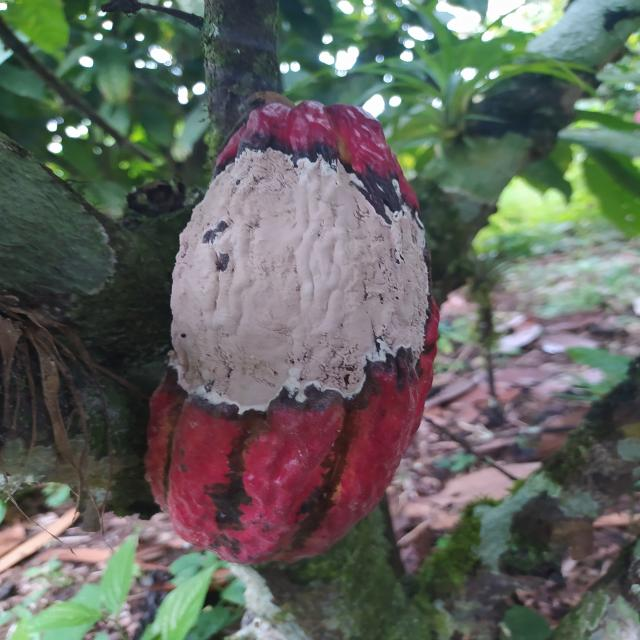Monilia: (144, 102, 441, 566)
